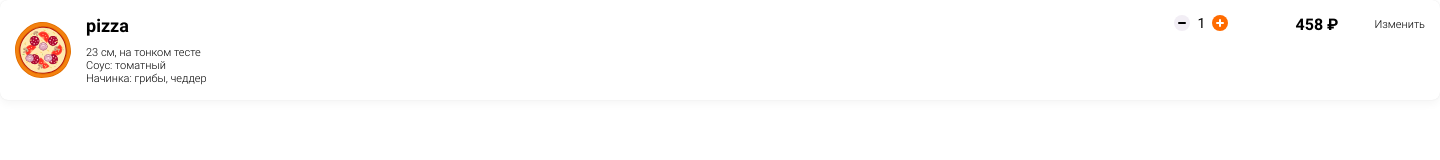
Test case: CartPizzasList.vue › increase pizzas count
Click the button with test id "increase" at (1220, 23), box [1212,15,1228,31]
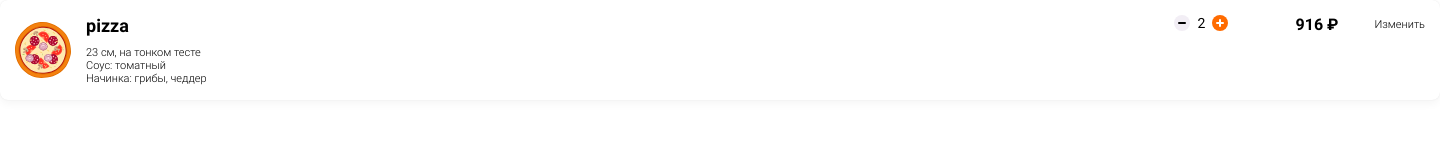
Now the element with test id "price" shows "916", box [1296,15,1338,34]
